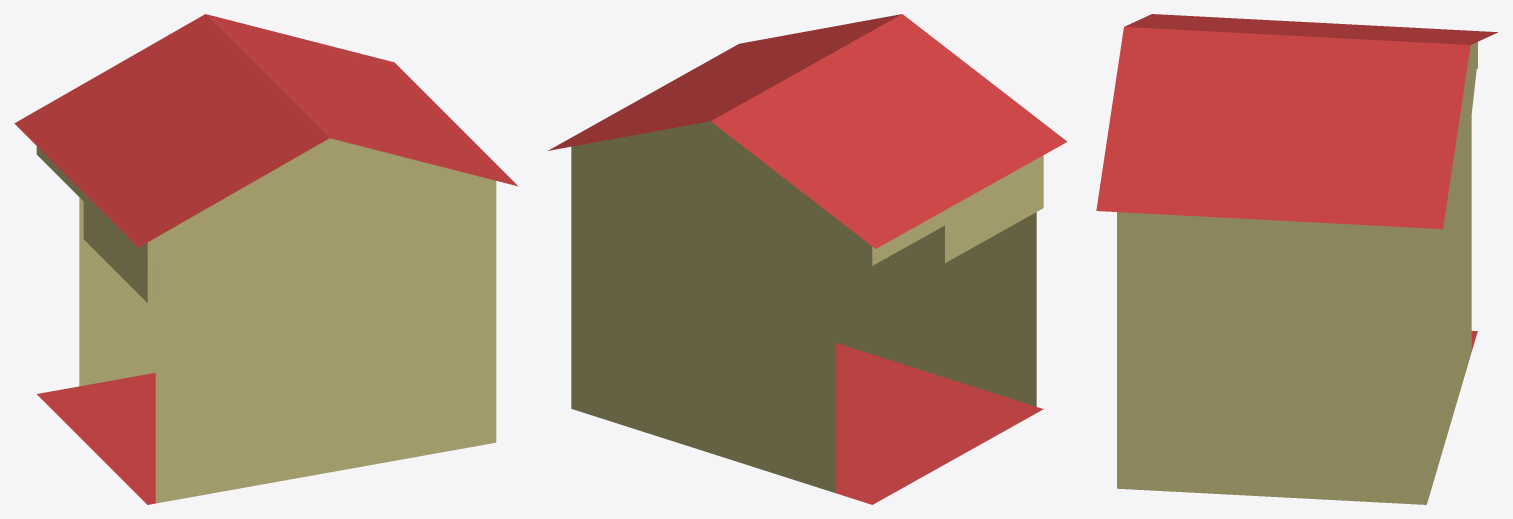
3 renders of one model, left to right at view 1: azimuth 30°, elevation 25°; view 2: azimuth 150°, elevation 25°; view 3: azimuth 270°, elevation 25°, orthographic. The views are drawn at different scales.
Size of the model in its own units: 13.16 by 10.77 by 11.06.
